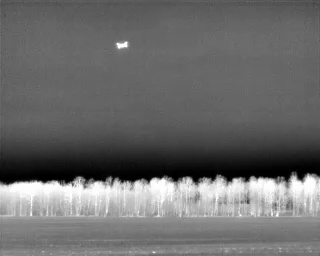DRONE: (112, 37, 133, 55)
